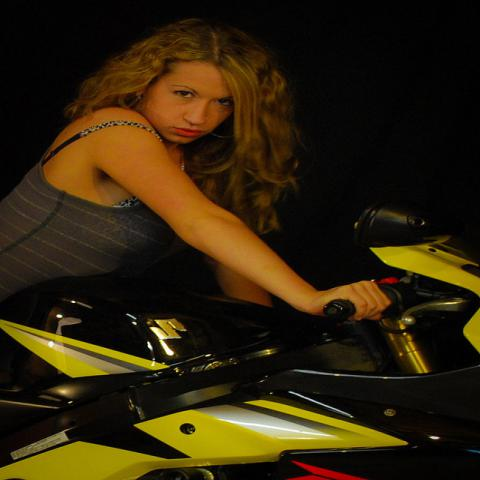motorcycle: (4, 193, 479, 475)
